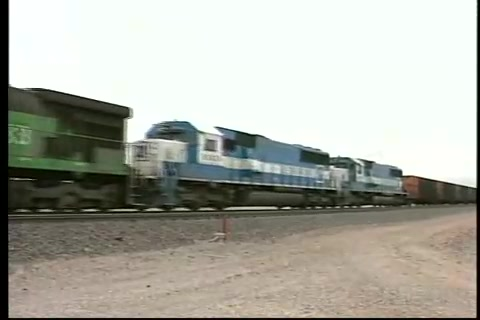train: (10, 81, 478, 212)
